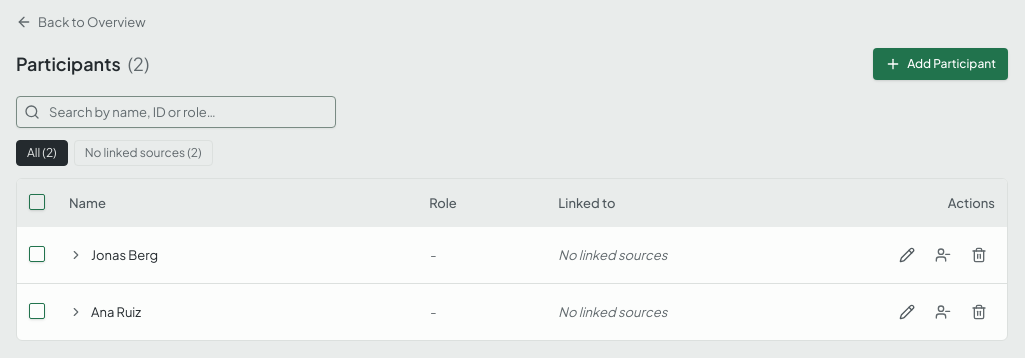
Test: #1667 (D342) — the panel says it could not check, never vanishes › control: while it loads, the section says nothing (the detail has the one loading line)
The image size is (1025, 358).
Expected: the text "Jonas Berg" is shown, left=91, top=245, right=158, bottom=265
Click the text "Jonas Berg" at (512,255), box left=17, top=227, right=1007, bottom=284
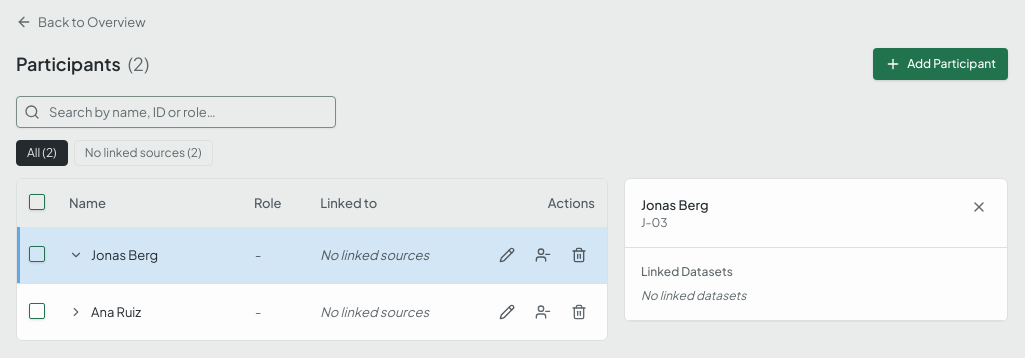
Expected: the heading "Jonas Berg" is shown, left=641, top=195, right=708, bottom=215
